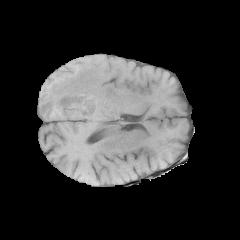glioma: (40, 67, 117, 119)
